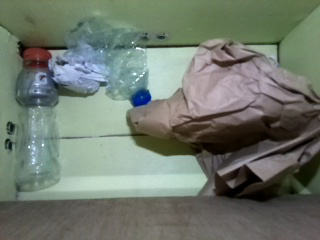bottle: (12, 46, 59, 194)
damaged-bottle: (64, 15, 151, 106)
paper: (126, 36, 318, 200), (47, 48, 111, 96)
